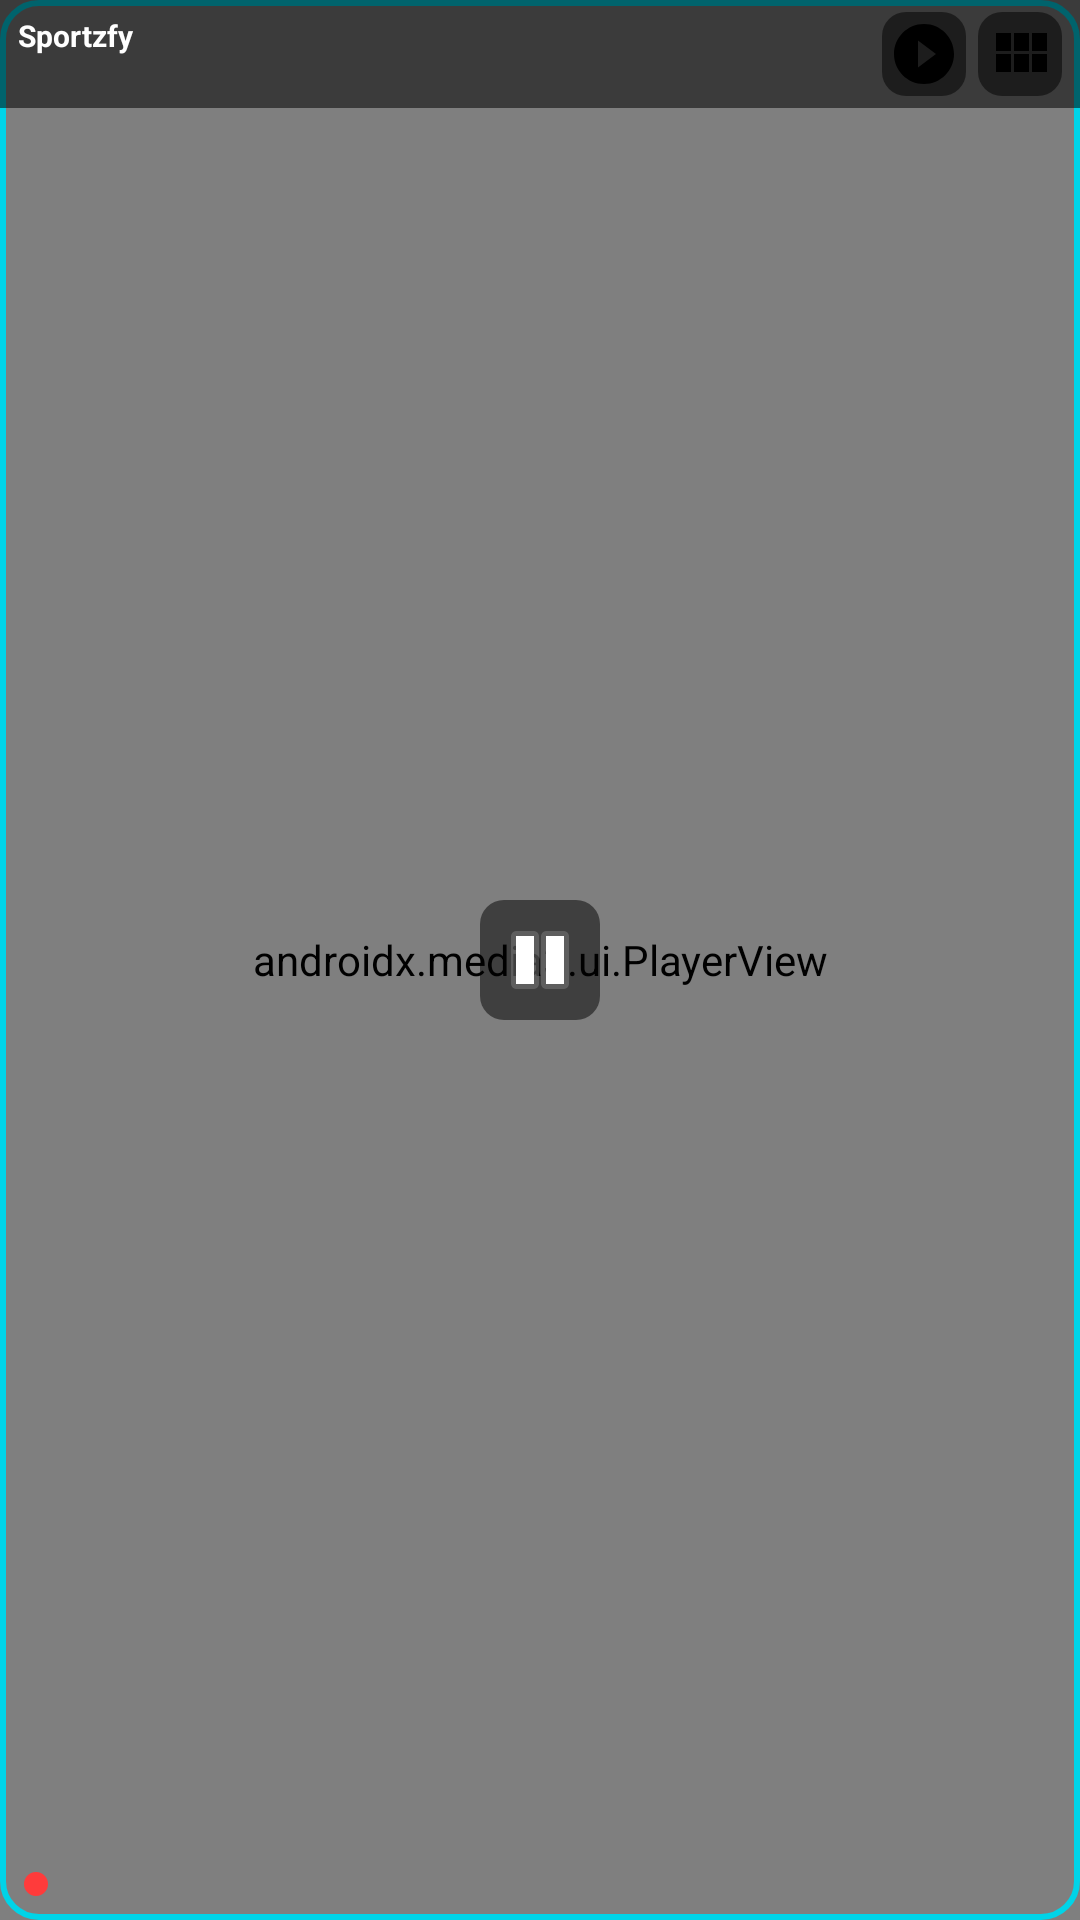

Named icons in this screenshot (1080×1920) and their centers, (x,y):
Play/Pause: (540,960)
